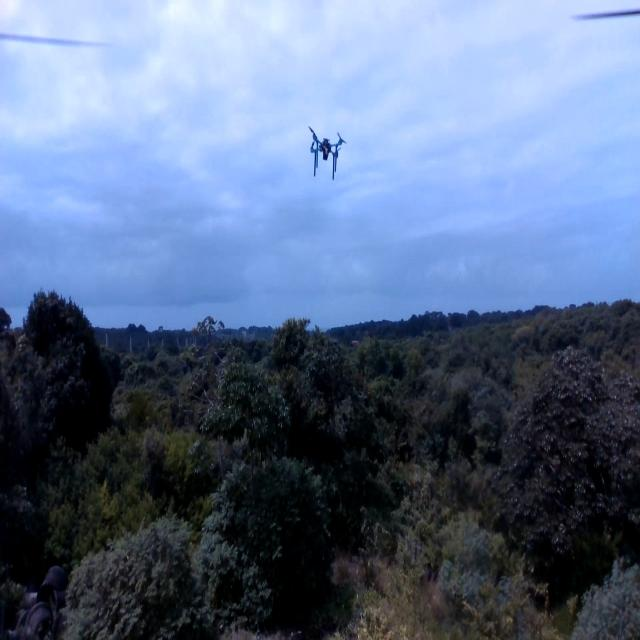-uav-: (300, 115, 352, 192)
